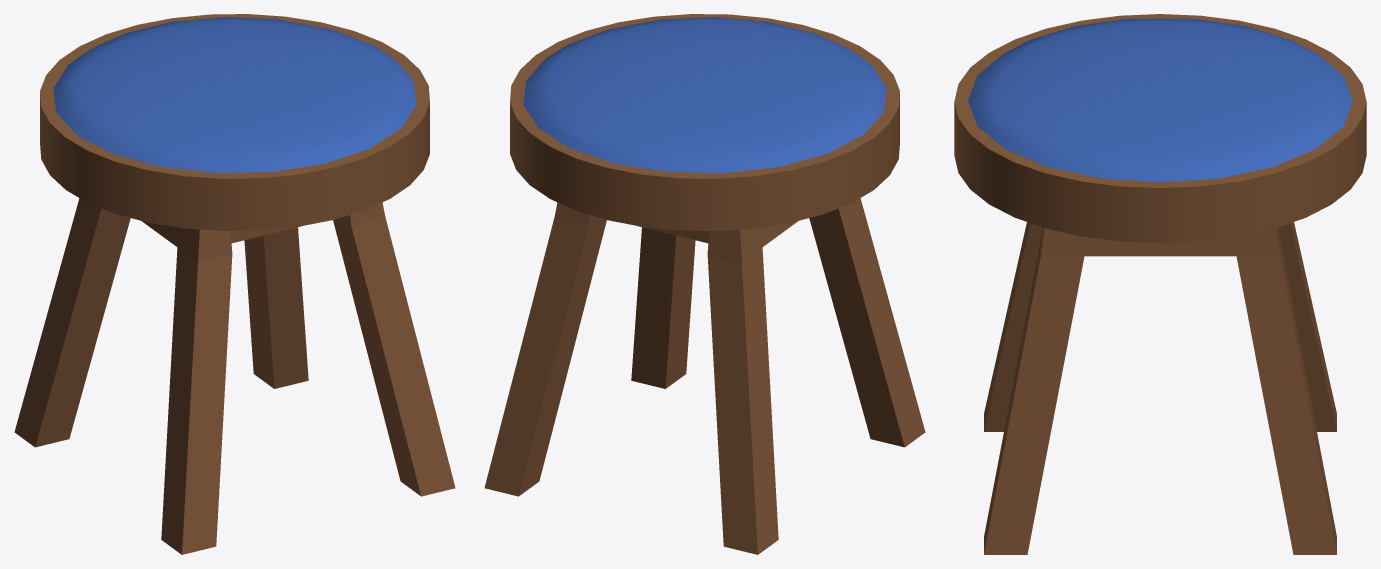
The model's file is Chair2.fbx.
3 renders of one model, left to right at view 1: azimuth 30°, elevation 25°; view 2: azimuth 150°, elevation 25°; view 3: azimuth 270°, elevation 25°, orthographic. The views are drawn at different scales.
Parts seen in each view (by area): view 1: Chair2; view 2: Chair2; view 3: Chair2.
Boxes of the visible parts, x1,y1,x2,y2 form: Chair2: (14,14,455,554); Chair2: (484,14,925,554); Chair2: (954,14,1366,554).
Bounding box in the file's own units: 138 × 138 × 150.
